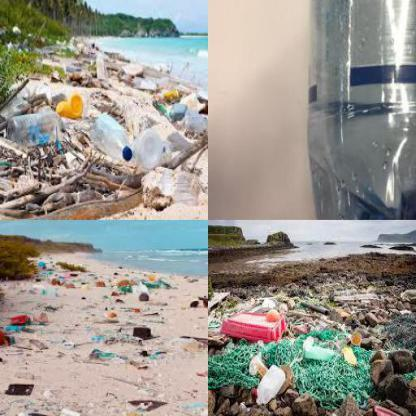Plastic: (310, 0, 416, 220), (147, 167, 201, 203), (87, 114, 127, 161), (1, 112, 57, 141), (255, 364, 287, 406), (132, 135, 167, 170), (53, 94, 86, 120)
Trash: (300, 337, 337, 360)
